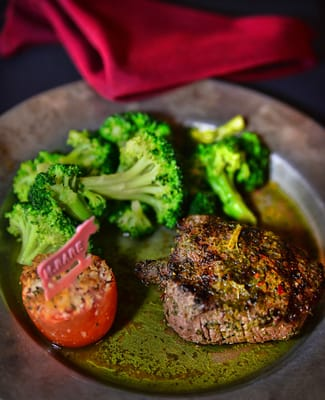curry: (3, 112, 184, 265), (191, 130, 271, 227)
